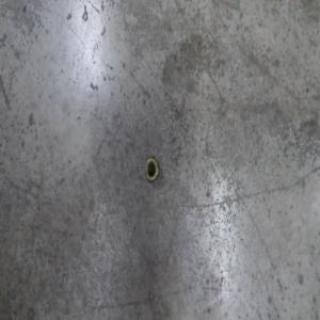Nuttrack_idkeyframe: (144, 156, 158, 184)
